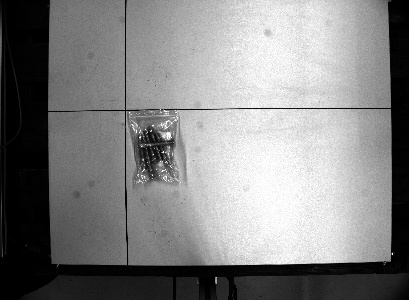t2: (123, 105, 189, 191)
